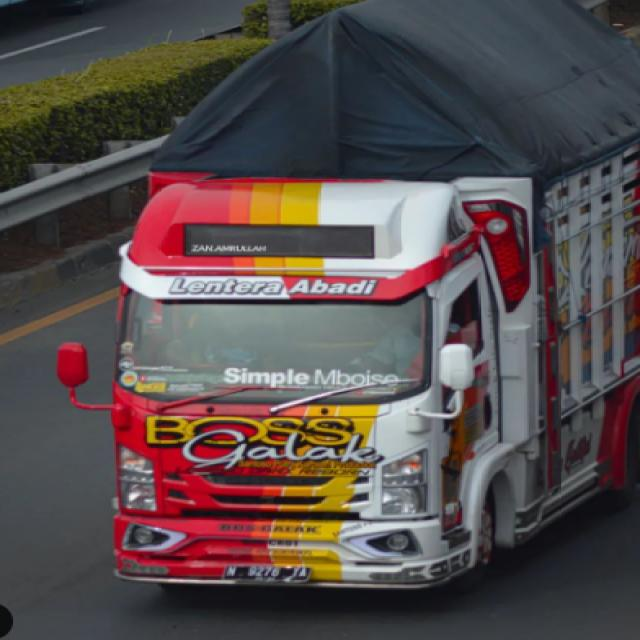Truck: (58, 1, 640, 600)
